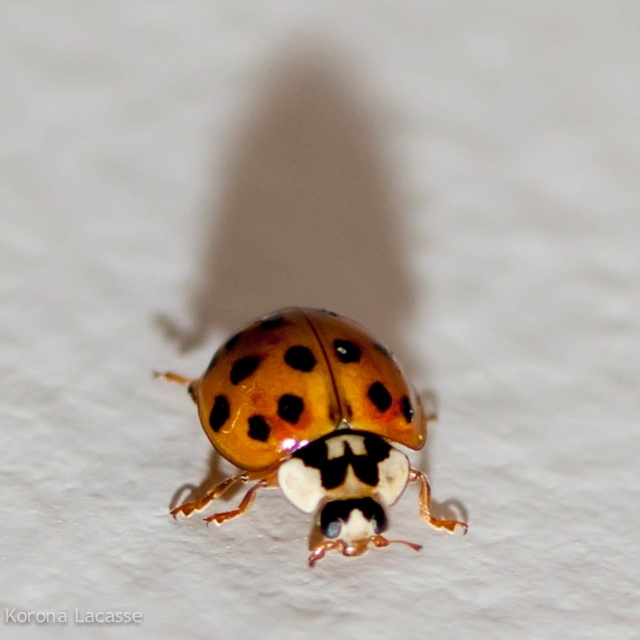Ladybug: (154, 308, 466, 569)
